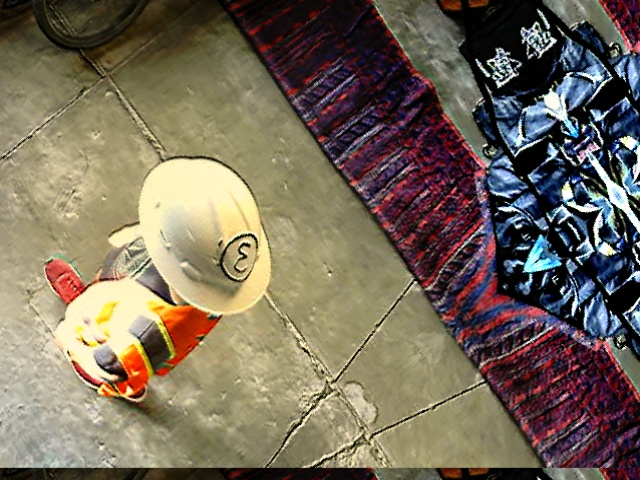three: (212, 226, 269, 285)
